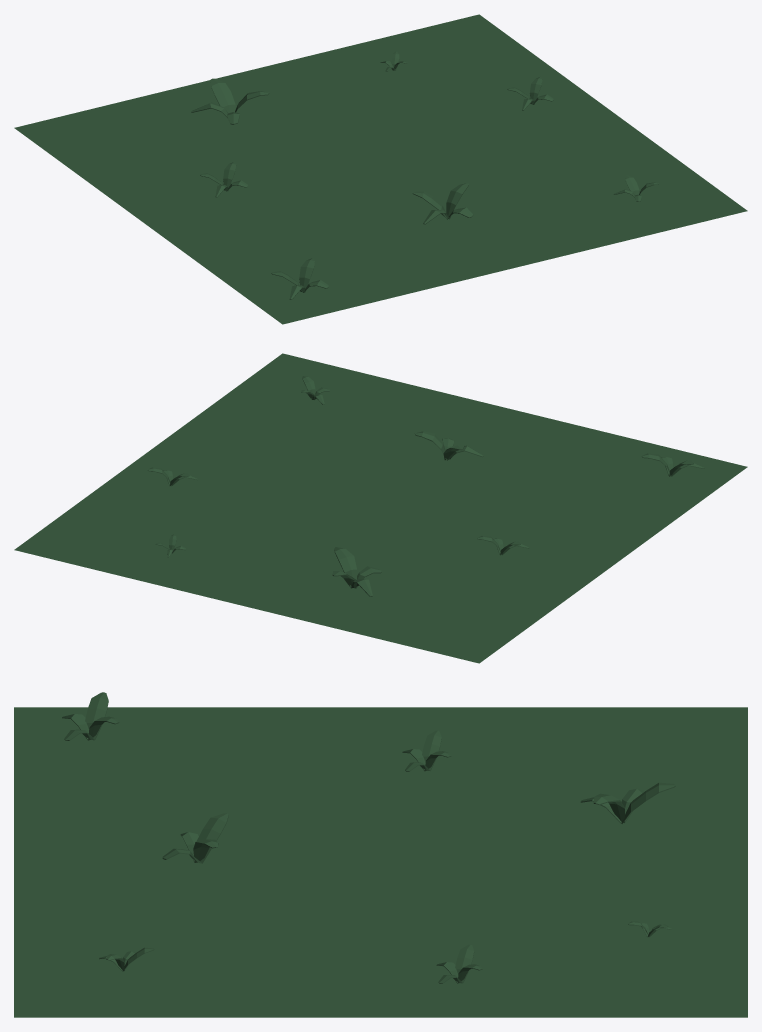
The model's file is Piso_Pasto.fbx.
3 renders of one model, top to bottom at view 1: azimuth 30°, elevation 25°; view 2: azimuth 150°, elevation 25°; view 3: azimuth 270°, elevation 25°, orthographic. The views are drawn at different scales.
Visible parts, largest first — view 1: Piso, Grass6, Grass2, Grass, Grass1; view 2: Piso, Grass6, Grass2; view 3: Piso, Grass2, Grass6, Grass, Grass1, Grass5.
Boxes of the visible parts, <box> form: Piso: <box>14,14,747,324</box>; Grass6: <box>191,78,269,124</box>; Grass2: <box>412,183,473,224</box>; Grass: <box>271,258,328,299</box>; Grass1: <box>200,162,247,197</box>; Piso: <box>14,353,747,663</box>; Grass6: <box>332,547,381,596</box>; Grass2: <box>415,431,483,460</box>; Piso: <box>14,707,747,1017</box>; Grass2: <box>162,813,228,863</box>; Grass6: <box>580,782,675,823</box>; Grass: <box>62,692,119,740</box>; Grass1: <box>402,730,451,771</box>; Grass5: <box>436,944,482,983</box>.
Size of the model in its own units: 300 by 17.76 by 300.
